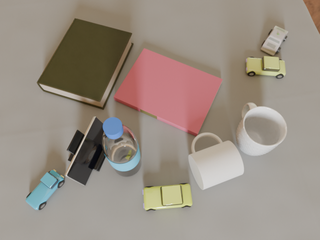book: (114, 48, 222, 136), (37, 18, 133, 109)
bottle: (101, 117, 141, 177)
cup: (189, 133, 244, 190), (236, 103, 287, 156)
phone: (65, 117, 104, 185)
toy_car: (26, 170, 65, 210), (143, 183, 192, 211), (246, 56, 286, 78), (261, 26, 288, 56)
